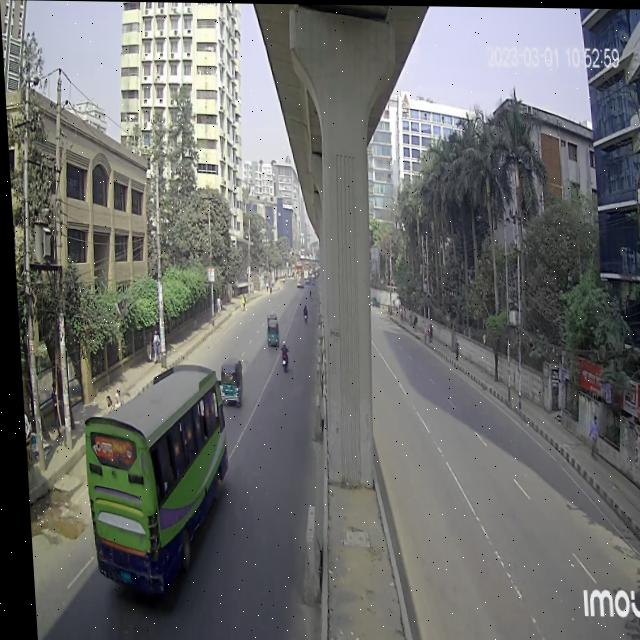cng: (211, 354, 242, 410), (258, 312, 278, 351)
